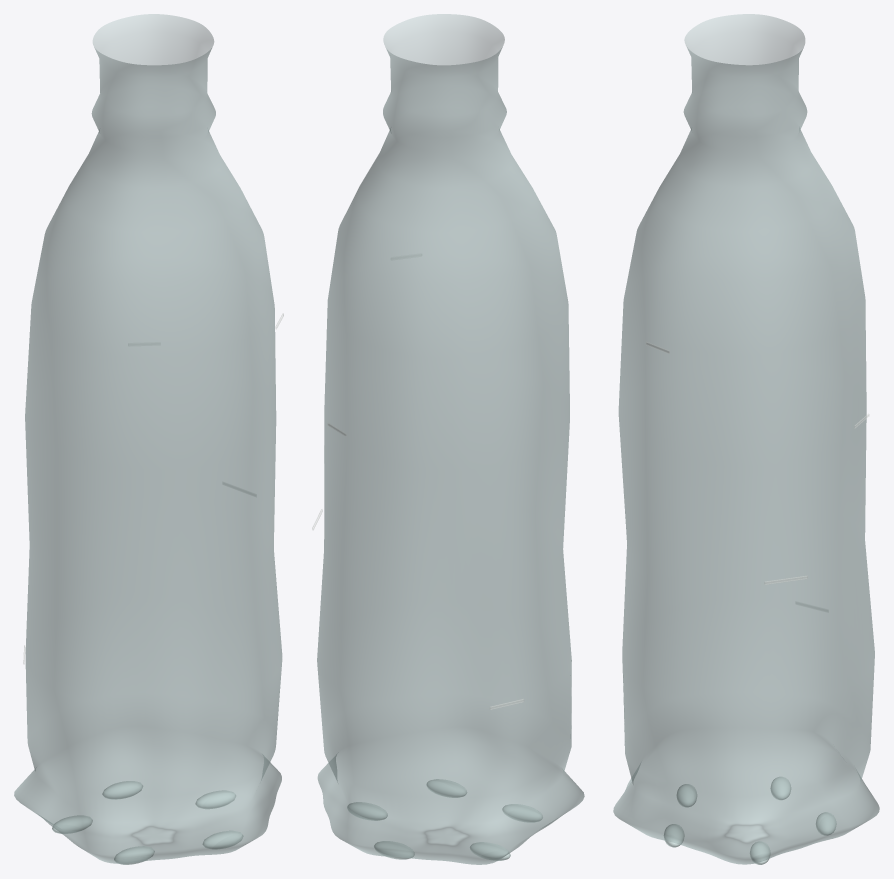
The model's file is pet_bottle.glb.
The picture shows the model from 3 angles, left to right: view 1: azimuth 30°, elevation 25°; view 2: azimuth 150°, elevation 25°; view 3: azimuth 270°, elevation 25°; orthographic projection.
Visible parts, largest first — view 1: PET_Bottle_Body, PET_Base_Foot_3, PET_Base_Foot_4, PET_Base_Foot_5, PET_Base_Foot_1, PET_Base_Foot_2; view 2: PET_Bottle_Body, PET_Base_Foot_3, PET_Base_Foot_2, PET_Base_Foot_1, PET_Base_Foot_4, PET_Base_Foot_5; view 3: PET_Bottle_Body.
Part boxes in pixels (x1,y1,x2,y2): PET_Bottle_Body: (14, 14, 282, 863); PET_Base_Foot_3: (52, 815, 92, 833); PET_Base_Foot_4: (114, 846, 154, 864); PET_Base_Foot_5: (202, 830, 243, 849); PET_Base_Foot_1: (195, 790, 235, 809); PET_Base_Foot_2: (102, 781, 142, 799); PET_Bottle_Body: (317, 14, 584, 864); PET_Base_Foot_3: (470, 842, 510, 860); PET_Base_Foot_2: (374, 841, 414, 859); PET_Base_Foot_1: (347, 802, 387, 820); PET_Base_Foot_4: (502, 804, 542, 822); PET_Base_Foot_5: (426, 779, 467, 797); PET_Bottle_Body: (613, 14, 879, 864).
Size of the model in its own units: 0.8165 by 2.66 by 0.8103.
